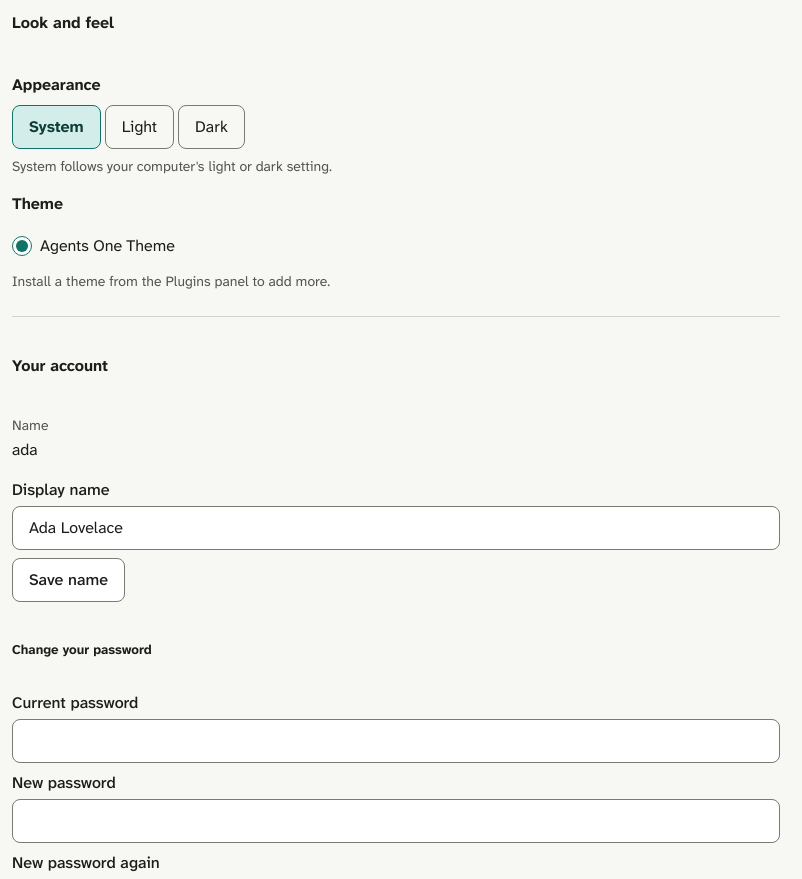
Test case: Settings, your account › saves a new display name
Replace the text in the field labelled "Display name" with "Ada King" at (396, 528), box [12, 506, 780, 550]
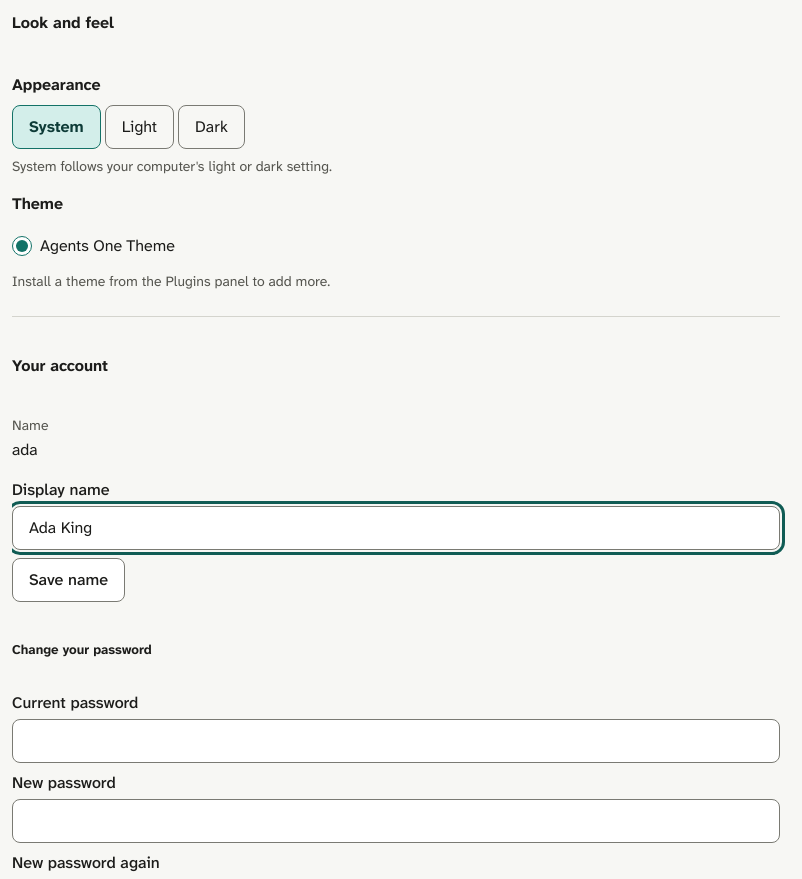
Click the button "Save name" at (69, 580), box [12, 558, 125, 602]
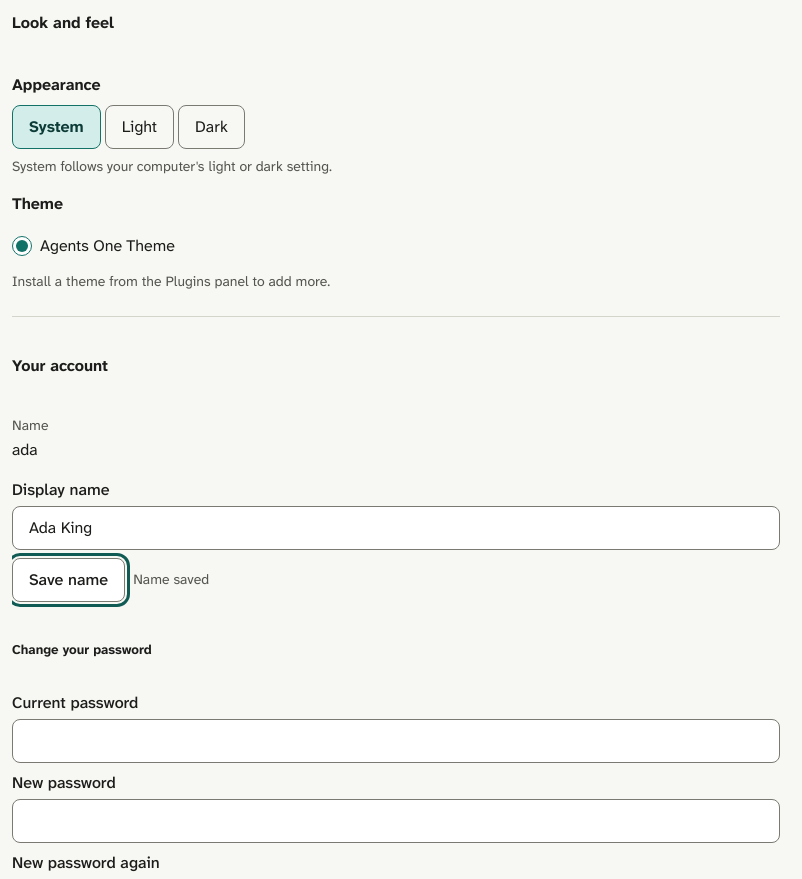
expect the text "Name saved" is shown: met, box [133, 570, 209, 590]
